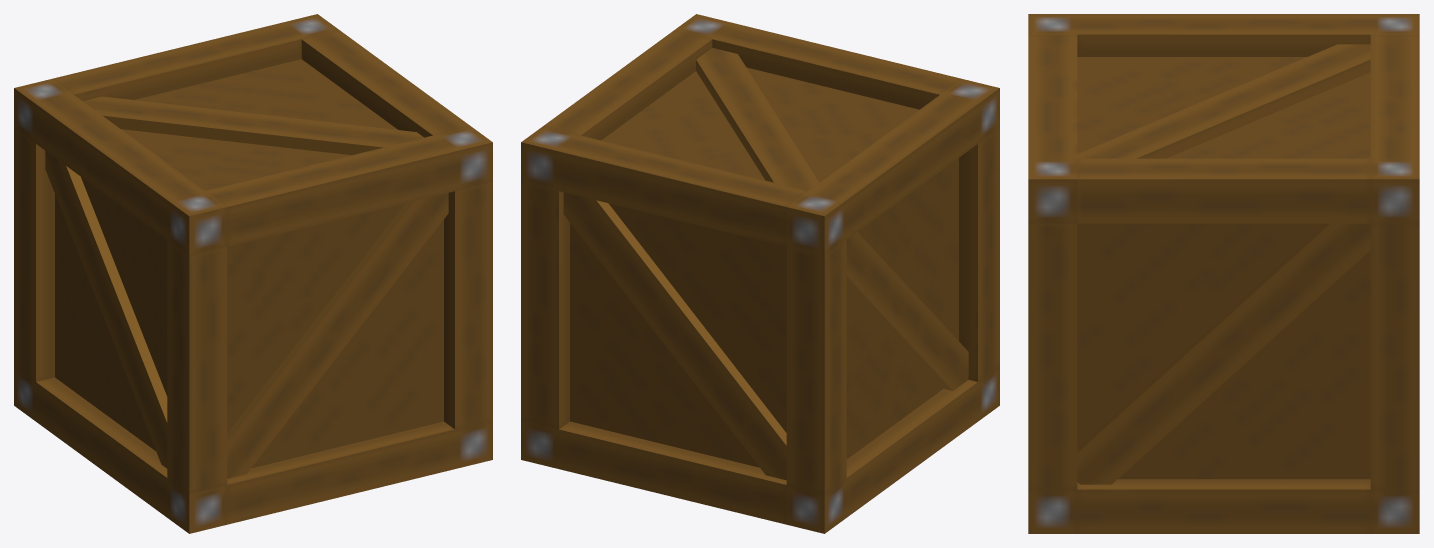
The model's file is Crate.fbx.
3 renders of one model, left to right at view 1: azimuth 30°, elevation 25°; view 2: azimuth 150°, elevation 25°; view 3: azimuth 270°, elevation 25°, orthographic. The views are drawn at different scales.
Parts seen in each view (by area): view 1: cube, cube_14, cube_7, cube_1, cube_5, cube_11, cube_3, cube_6, cube_13, cube_2, cube_15, cube_10 (+1 smaller); view 2: cube, cube_13, cube_7, cube_2, cube_5, cube_12, cube_4, cube_6, cube_14, cube_1, cube_10, cube_9 (+1 smaller); view 3: cube, cube_9, cube_10, cube_8, cube_7, cube_3, cube_4, cube_15, cube_13, cube_14, cube_11, cube_12.
Part boxes in pixels (left/top/right/bottom): cube: left=55, top=59, right=443, bottom=468; cube_14: left=206, top=126, right=492, bottom=246; cube_7: left=14, top=79, right=227, bottom=255; cube_1: left=167, top=240, right=227, bottom=494; cube_5: left=227, top=193, right=448, bottom=478; cube_11: left=227, top=420, right=492, bottom=524; cube_3: left=444, top=182, right=492, bottom=429; cube_6: left=14, top=366, right=227, bottom=533; cube_13: left=52, top=14, right=338, bottom=100; cube_2: left=14, top=128, right=54, bottom=381; cube_15: left=83, top=96, right=423, bottom=155; cube_10: left=45, top=151, right=167, bottom=468; cube: left=570, top=67, right=958, bottom=467; cube_13: left=521, top=126, right=807, bottom=246; cube_7: left=786, top=79, right=999, bottom=255; cube_2: left=786, top=240, right=846, bottom=494; cube_5: left=563, top=192, right=786, bottom=480; cube_12: left=521, top=420, right=786, bottom=524; cube_4: left=521, top=182, right=569, bottom=429; cube_6: left=786, top=366, right=999, bottom=533; cube_14: left=675, top=14, right=961, bottom=109; cube_1: left=959, top=128, right=999, bottom=381; cube_10: left=846, top=232, right=968, bottom=390; cube_9: left=543, top=30, right=712, bottom=140; cube: left=1077, top=57, right=1370, bottom=479; cube_9: left=1077, top=158, right=1370, bottom=223; cube_10: left=1077, top=223, right=1370, bottom=484; cube_8: left=1077, top=479, right=1370, bottom=533; cube_7: left=1028, top=14, right=1419, bottom=56; cube_3: left=1028, top=223, right=1077, bottom=489; cube_4: left=1370, top=223, right=1419, bottom=489; cube_15: left=1077, top=44, right=1370, bottom=158; cube_13: left=1370, top=34, right=1419, bottom=223; cube_14: left=1028, top=34, right=1077, bottom=223; cube_11: left=1028, top=489, right=1077, bottom=533; cube_12: left=1370, top=489, right=1419, bottom=533.
Size of the model in its own units: 100 by 100 by 100.
Materials: 1 (1 with a texture image).
